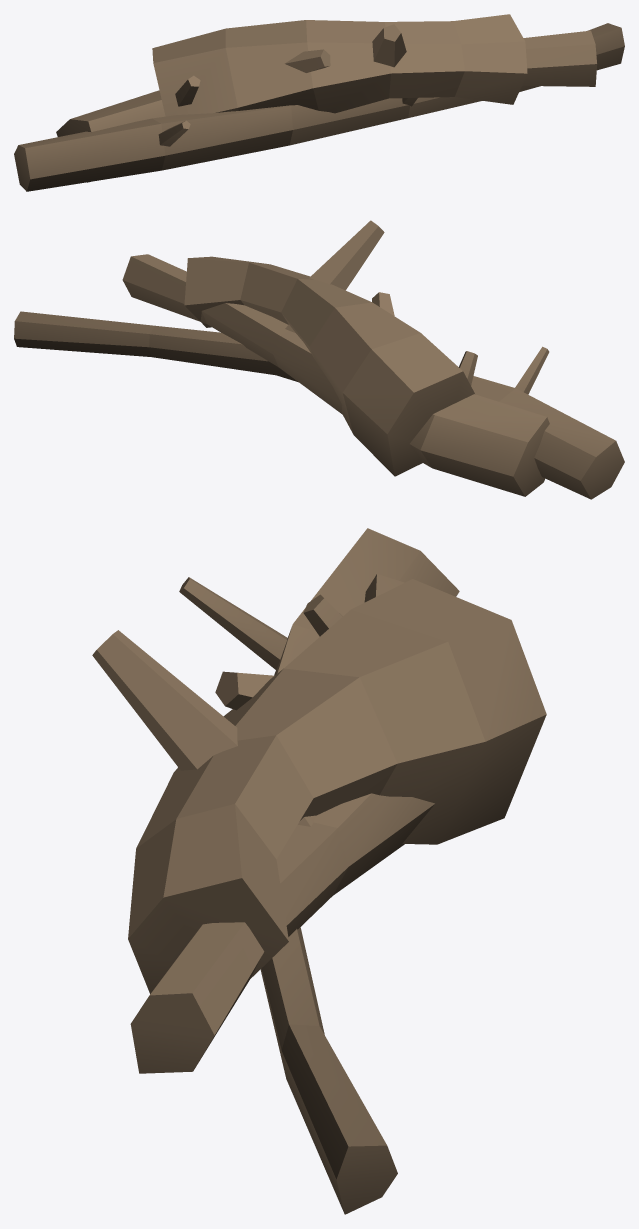
The model's file is stack_driftwood.glb.
The picture shows the model from 3 angles, top to bottom: view 1: azimuth 30°, elevation 25°; view 2: azimuth 150°, elevation 25°; view 3: azimuth 270°, elevation 25°; orthographic projection. The views are drawn at different scales.
Visible parts, largest first — view 1: driftwood_b, driftwood_c, driftwood_a; view 2: driftwood_b, driftwood_a, driftwood_c; view 3: driftwood_b, driftwood_c, driftwood_a.
Boxes of the visible parts, x1=… form: driftwood_b: x1=152, y1=14, x2=527, y2=116; driftwood_c: x1=14, y1=23, x2=624, y2=191; driftwood_a: x1=56, y1=30, x2=597, y2=182; driftwood_b: x1=184, y1=220, x2=474, y2=476; driftwood_a: x1=122, y1=254, x2=549, y2=496; driftwood_c: x1=14, y1=311, x2=624, y2=499; driftwood_b: x1=92, y1=579, x2=546, y2=993; driftwood_c: x1=179, y1=528, x2=459, y2=1214; driftwood_a: x1=130, y1=574, x2=435, y2=1073.
Bounding box in the file's own units: 3.15 × 0.7684 × 1.05.
